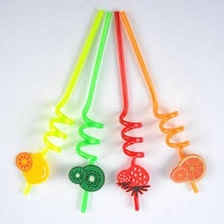drinking_straw: (10, 7, 108, 199), (116, 9, 214, 197), (65, 8, 112, 216), (110, 9, 155, 217)
